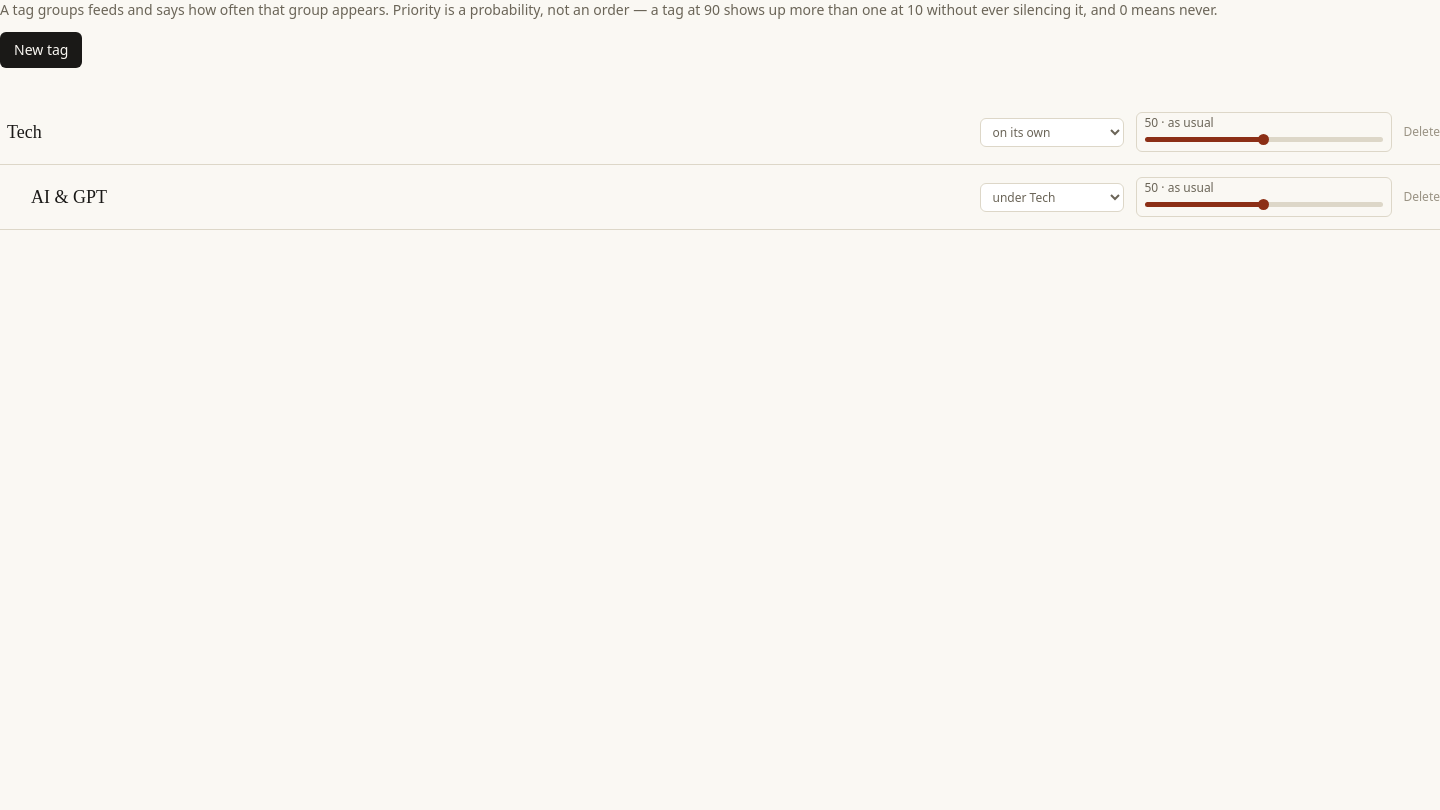
Scenario: TagsPage › says what becomes of the tags nested under it
Click the 1st button "Delete": x=1422, y=132 [1404, 124, 1439, 140]
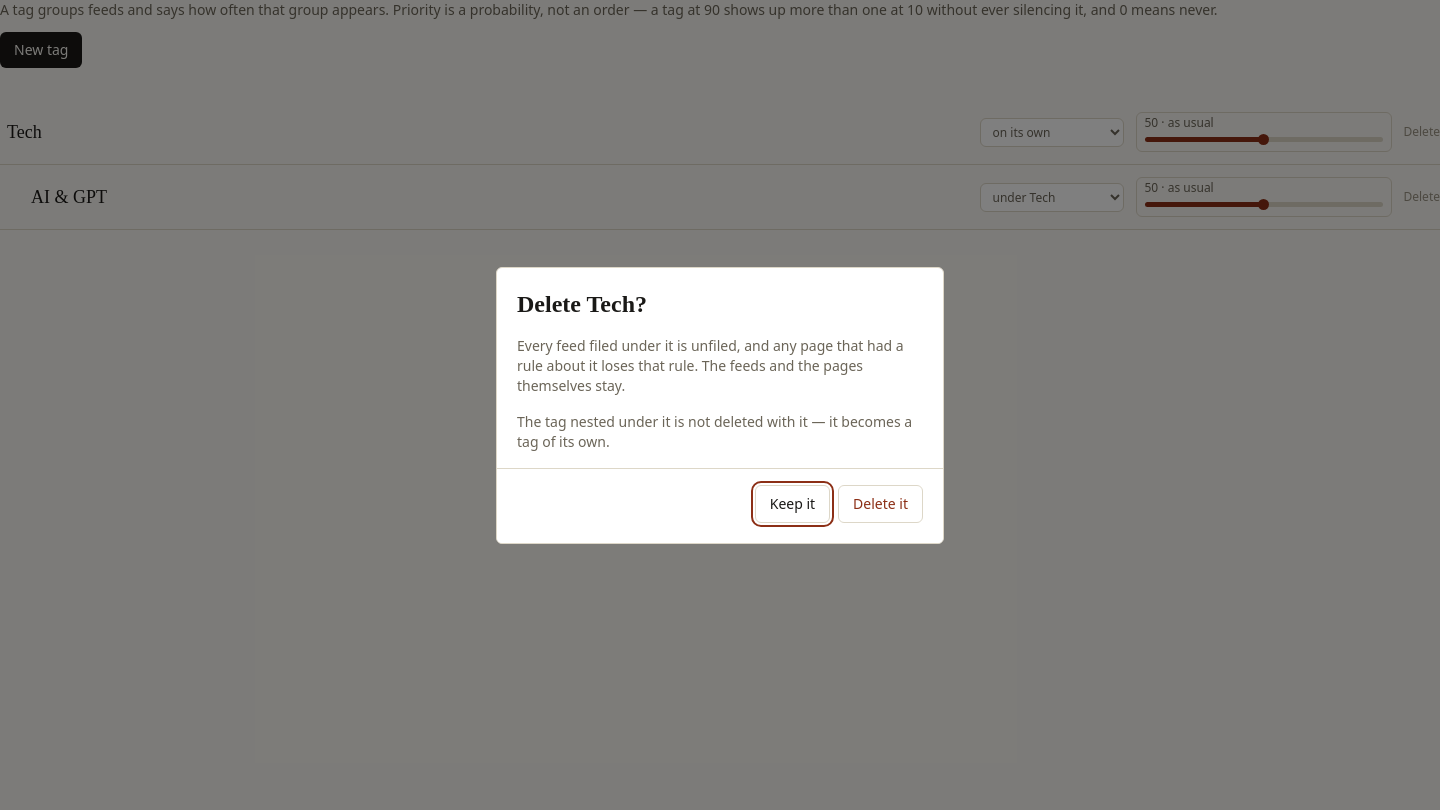
expect the text "it becomes a tag of its own" is shown: met, box [517, 412, 912, 450]
